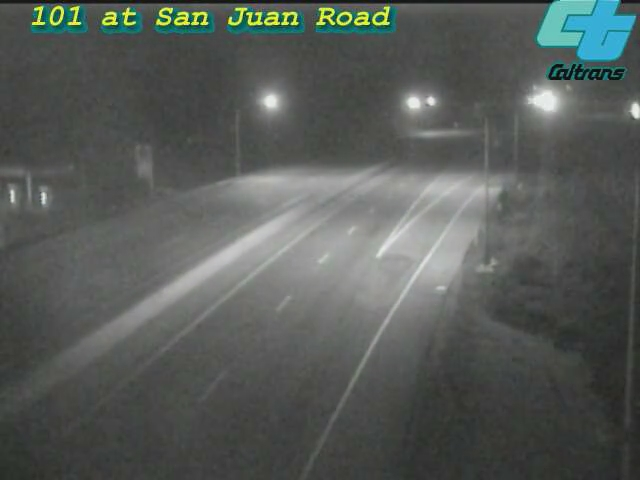vehicle: (524, 77, 574, 127), (611, 86, 640, 136)
